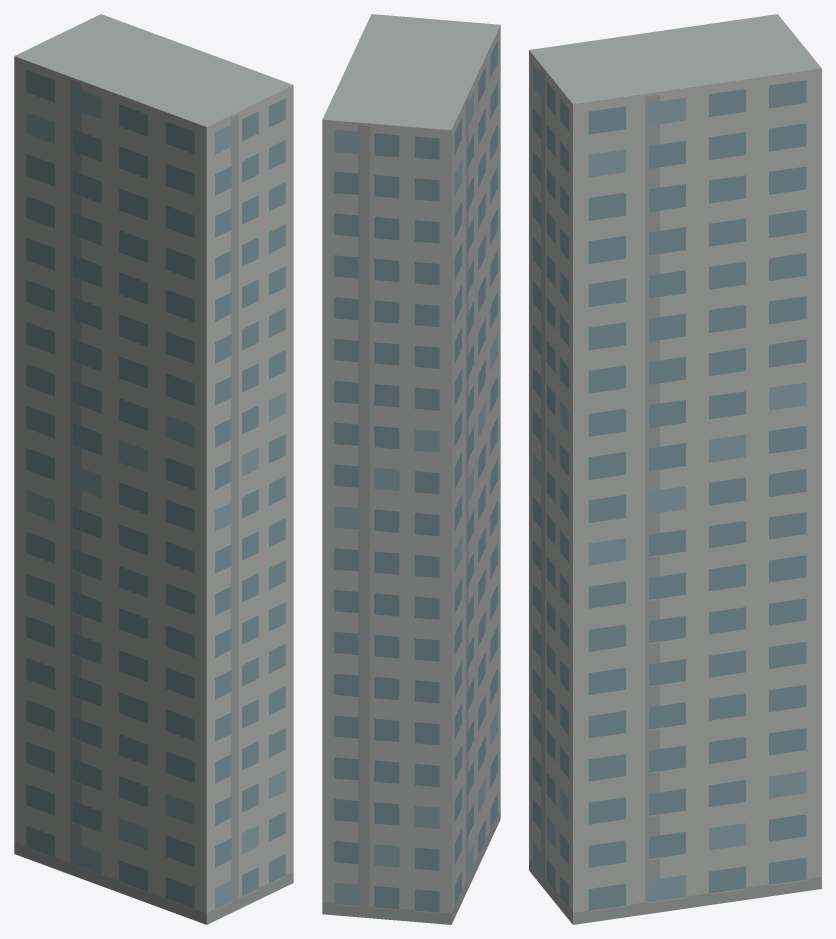
File: residential-68fe2db4-d2b9-4732-b19d-ab40c35e5988.glb
3 views of the same model, side by side, from view 1: azimuth 30°, elevation 25°; view 2: azimuth 150°, elevation 25°; view 3: azimuth 270°, elevation 25° (orthographic). The views are drawn at different scales.
Visible parts, largest first — view 1: residential-68fe2db4-d2b9-4732-b19d-ab40c35e5988.tmp; view 2: residential-68fe2db4-d2b9-4732-b19d-ab40c35e5988.tmp; view 3: residential-68fe2db4-d2b9-4732-b19d-ab40c35e5988.tmp.
Part boxes in pixels (box(x1,y1,x2,y2)): residential-68fe2db4-d2b9-4732-b19d-ab40c35e5988.tmp: box(14, 14, 293, 924); residential-68fe2db4-d2b9-4732-b19d-ab40c35e5988.tmp: box(322, 14, 500, 924); residential-68fe2db4-d2b9-4732-b19d-ab40c35e5988.tmp: box(529, 14, 821, 924).
Bounding box in the file's own units: 16.54 × 70 × 22.64.
